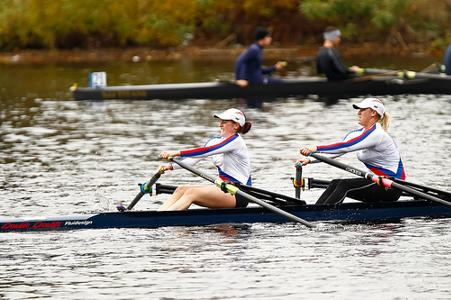person: (300, 96, 410, 206)
